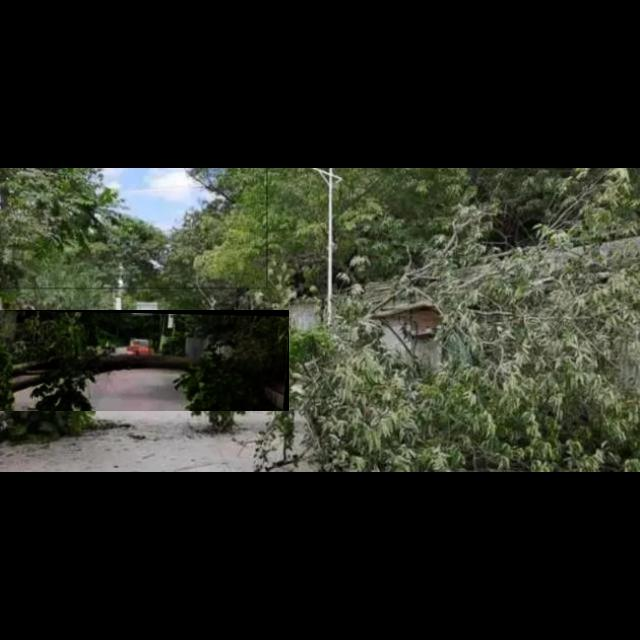Fallen Tree: (0, 310, 290, 412)
